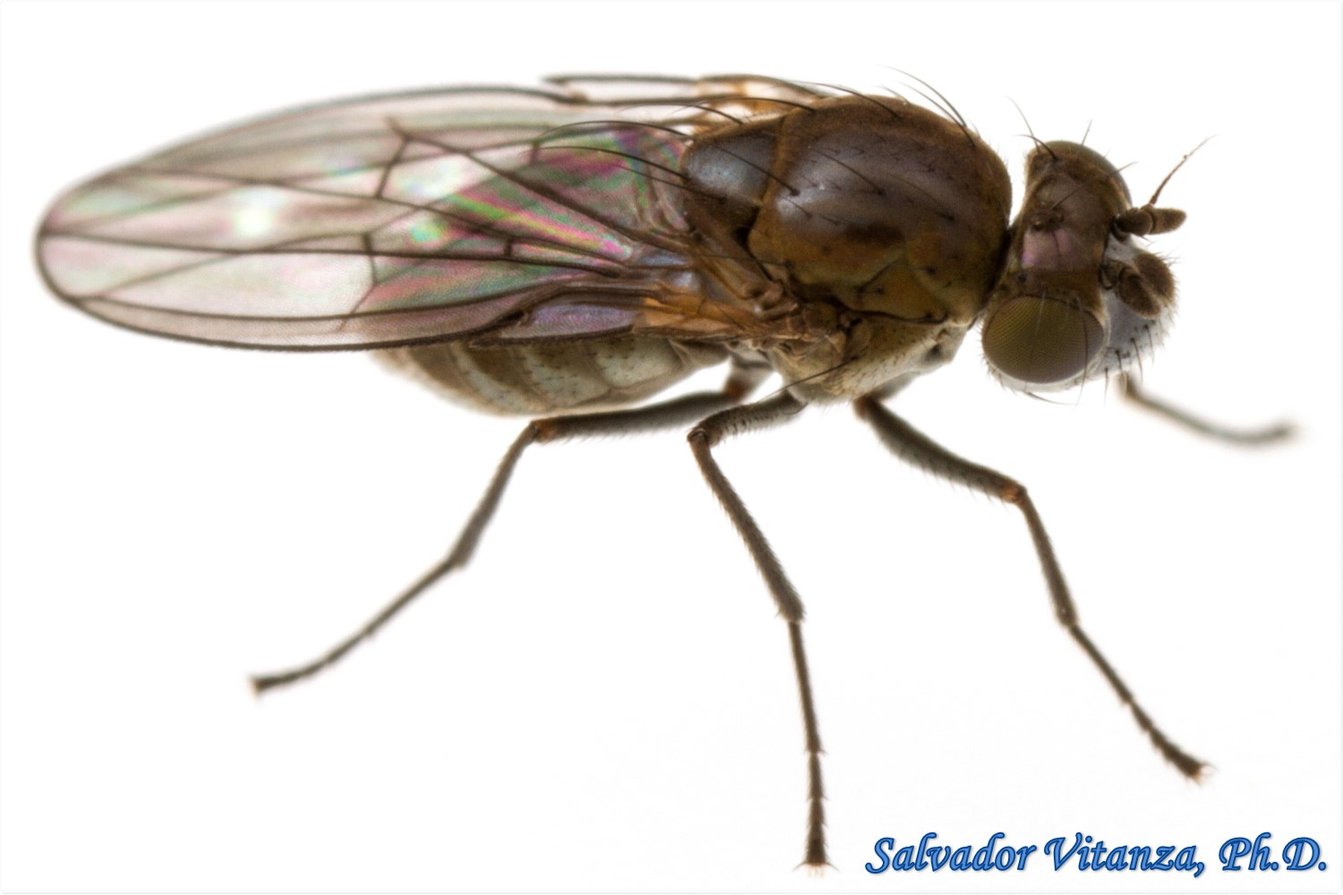Ephydridae: (28, 68, 1322, 868)
